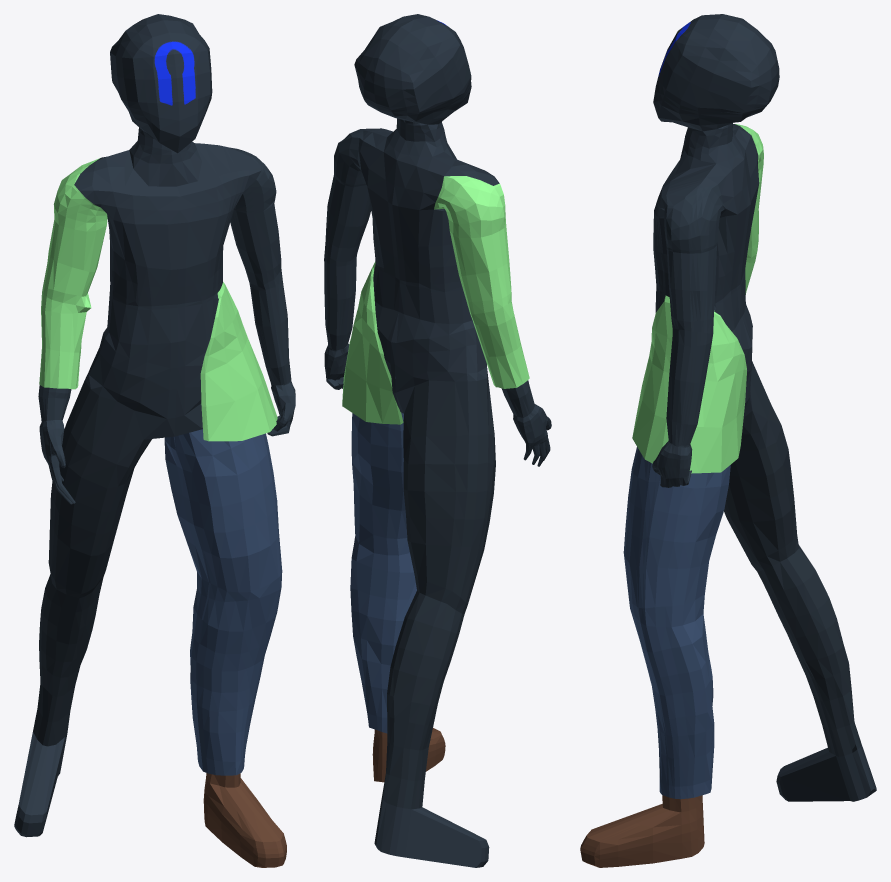
File: Mar_Stun_000007.obj
The picture shows the model from 3 angles, left to right: view 1: azimuth 30°, elevation 25°; view 2: azimuth 150°, elevation 25°; view 3: azimuth 270°, elevation 25°; orthographic projection. The views are drawn at different scales.
Parts seen in each view (by area): view 1: Cube.000_Cube.001; view 2: Cube.000_Cube.001; view 3: Cube.000_Cube.001.
Boxes of the visible parts, box(x1,y1,x2,y2) form: Cube.000_Cube.001: box(14, 14, 295, 867); Cube.000_Cube.001: box(324, 14, 551, 867); Cube.000_Cube.001: box(580, 14, 876, 867).
Size of the model in its own units: 1.2 by 3.98 by 1.29.
